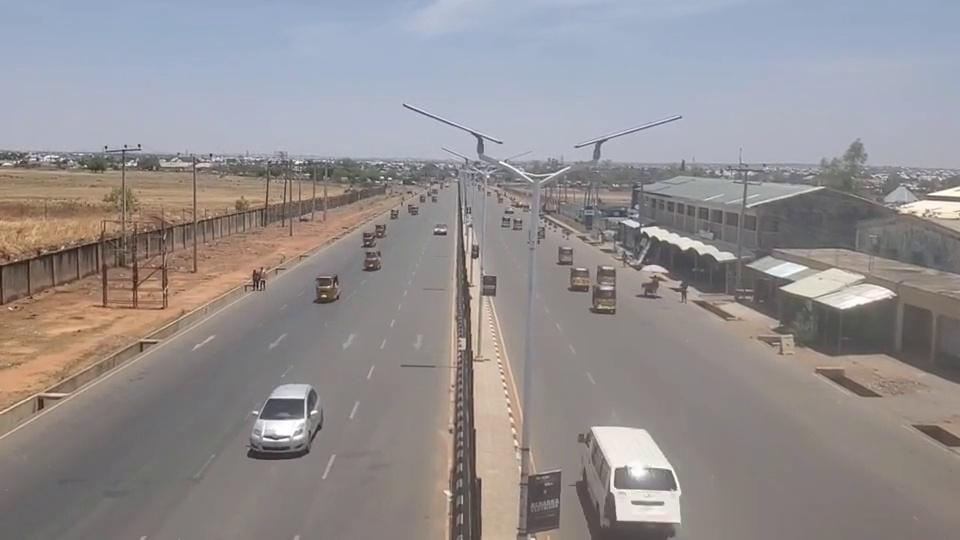bus: (585, 426, 685, 532)
car: (249, 382, 321, 454)
keke: (592, 282, 617, 314), (314, 274, 339, 302), (569, 266, 591, 291), (363, 250, 382, 271), (597, 265, 616, 286), (558, 246, 574, 264), (362, 231, 376, 247)
